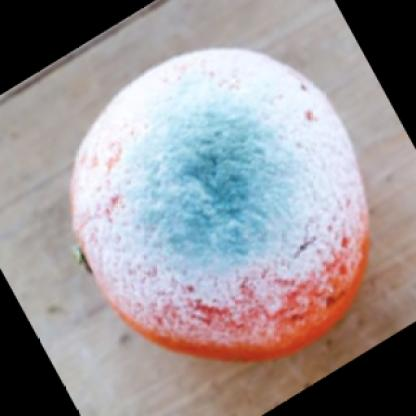rotten: (72, 50, 374, 364)
